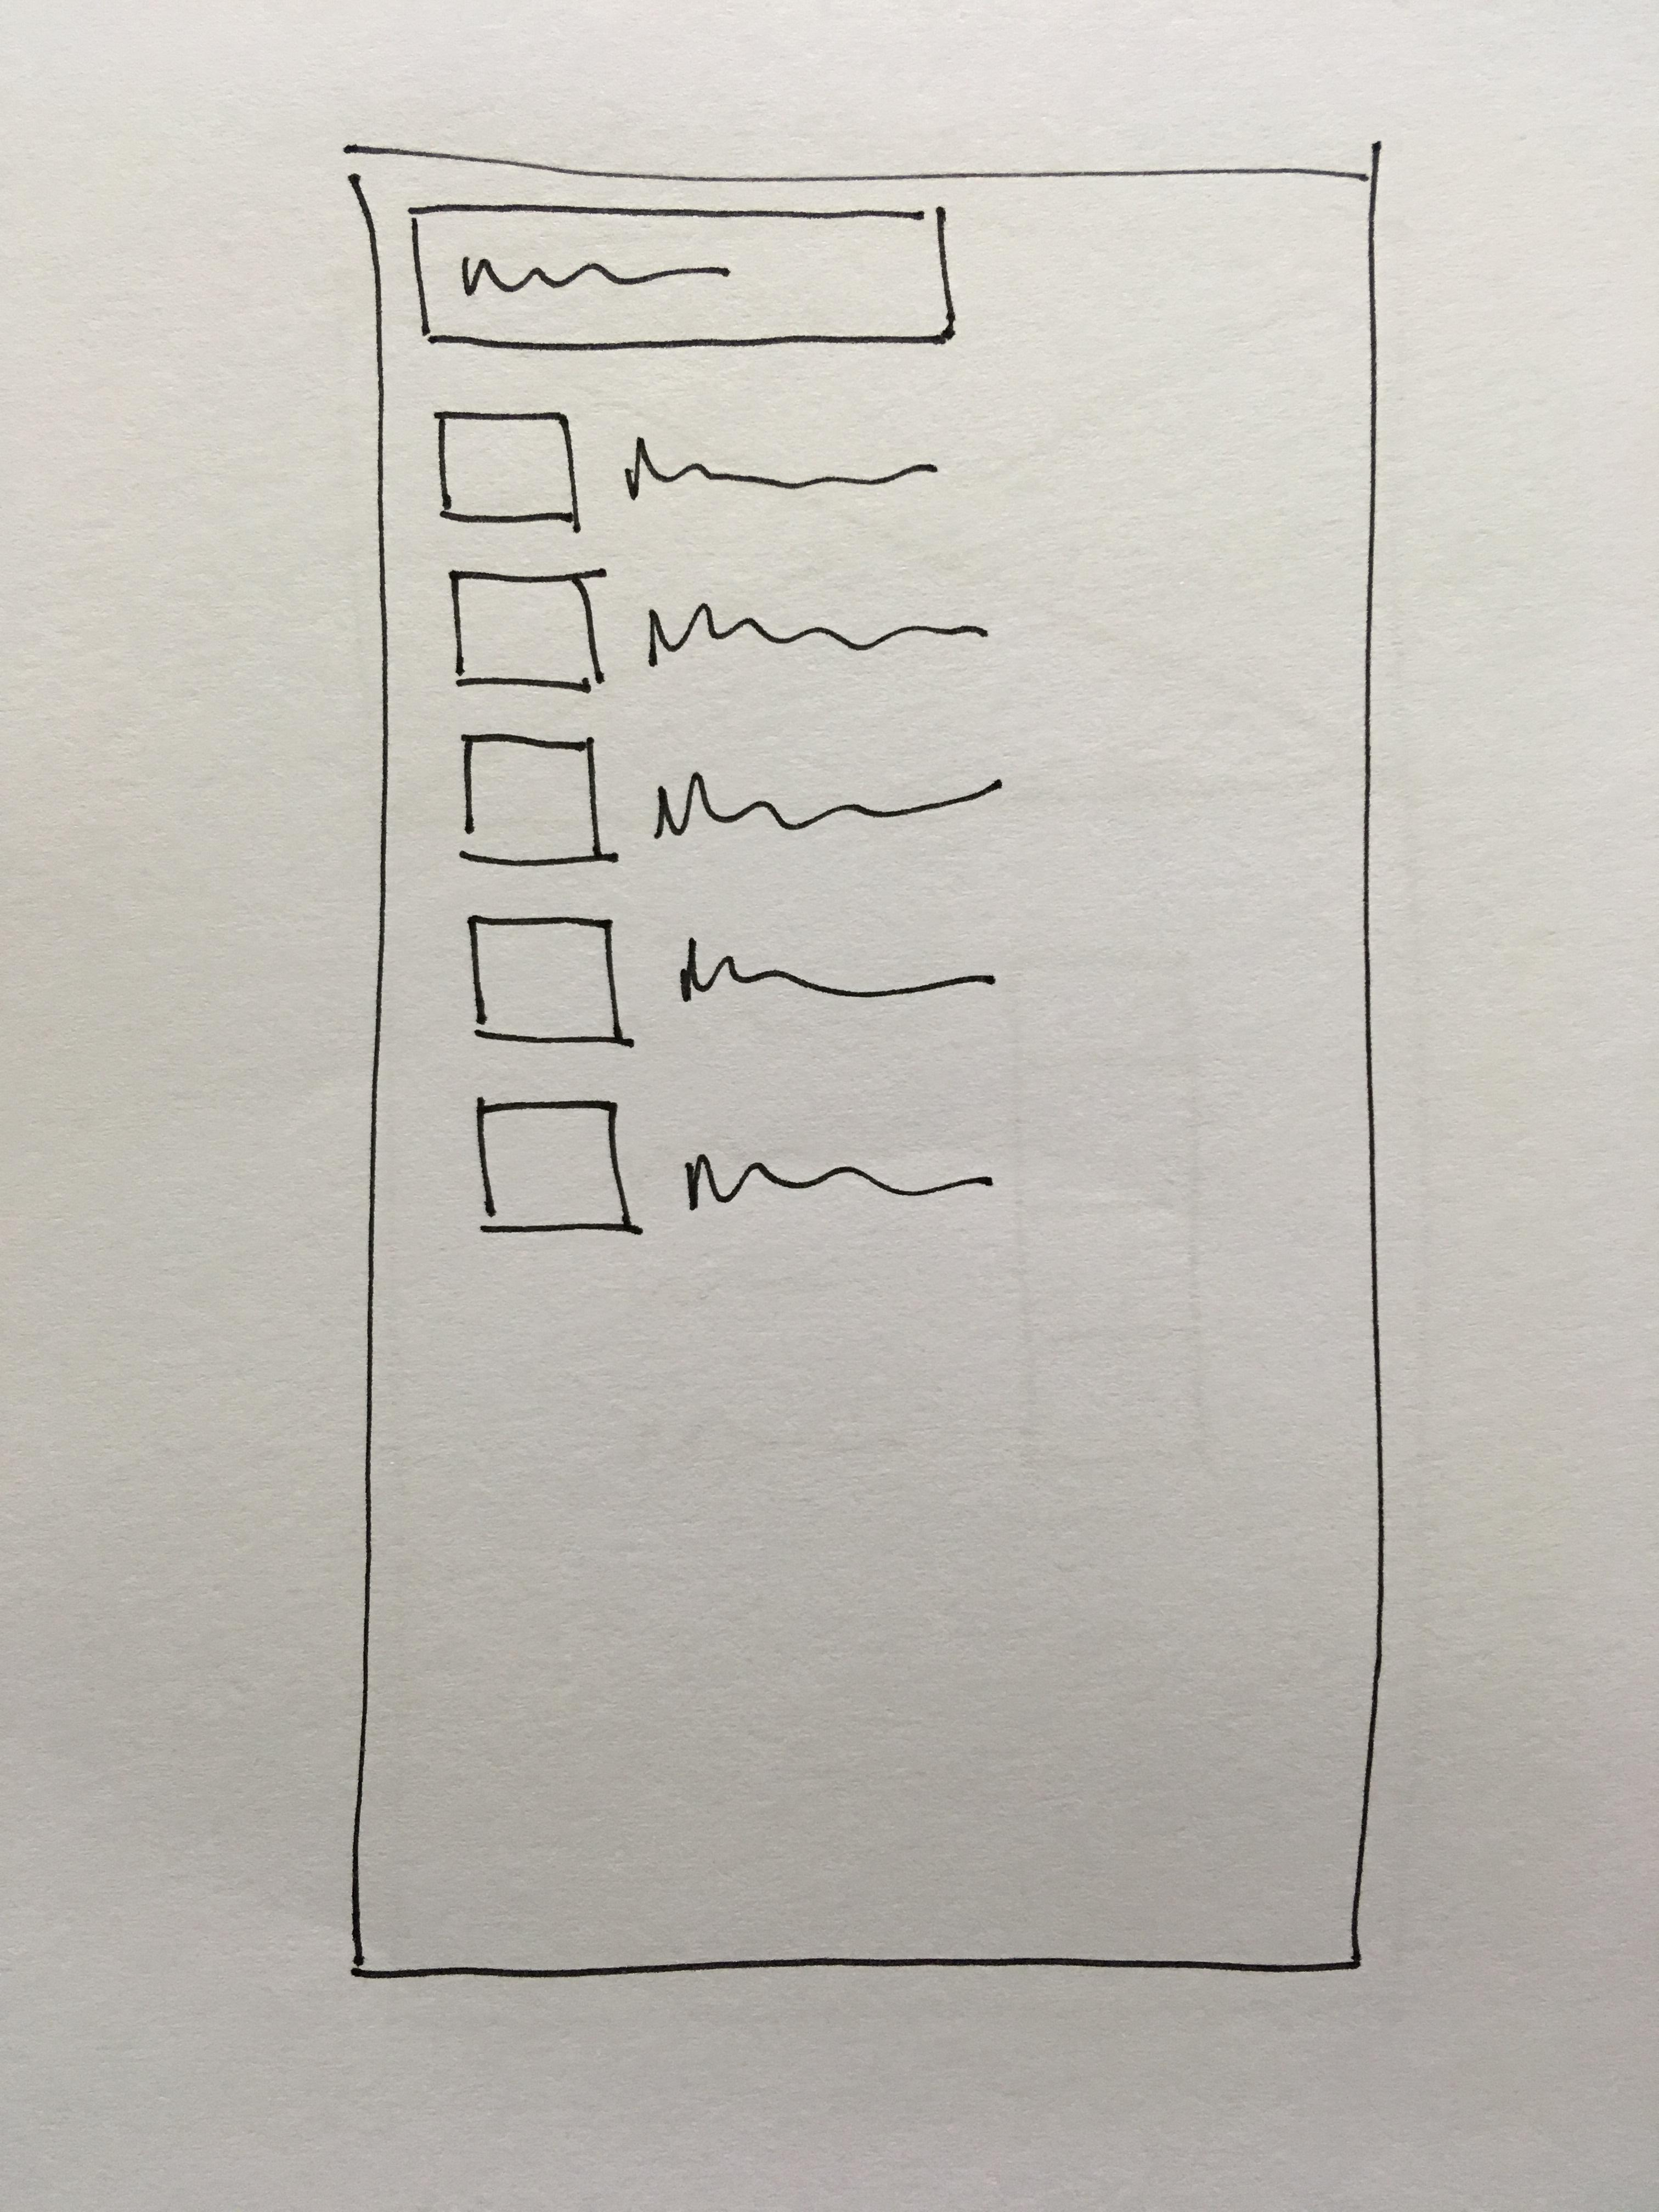CheckBox: (460, 730, 1007, 869), (479, 1096, 995, 1238), (469, 909, 1004, 1047), (455, 571, 993, 690), (436, 406, 941, 526)
Screen: (343, 141, 1387, 1975)
TextBox: (408, 202, 957, 352)
